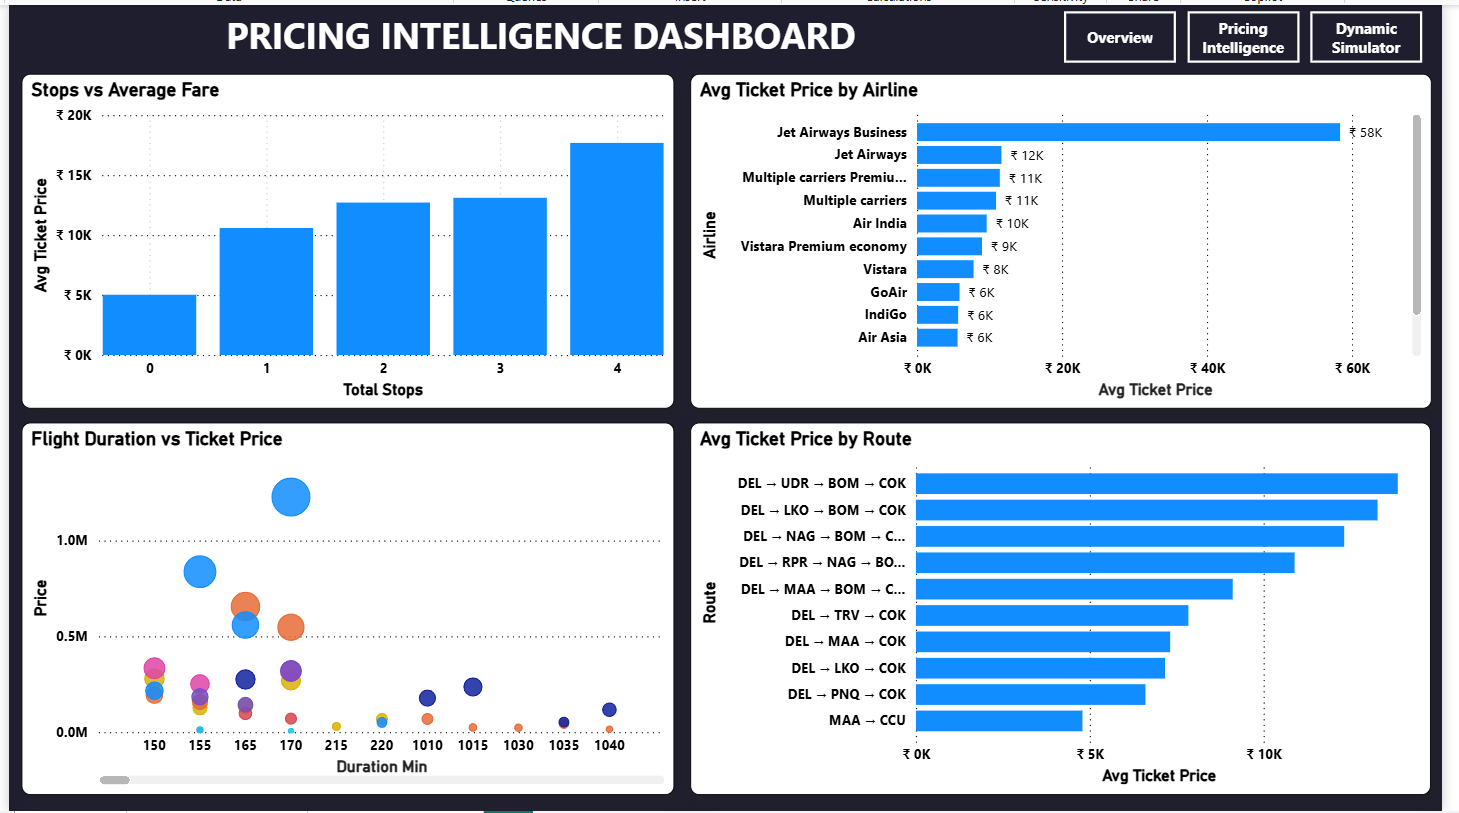

This screenshot's page, from the dashboard's own definition file:
{"tool":"powerbi","page":{"name":"Pricing Intelligence","canvas":[1280,720],"ordinal":1},"visuals":[{"type":"clusteredColumnChart","title":"Stops vs Average Fare","fields":{"Category":["Airline.Total_Stops"],"Y":["Airline.Avg Ticket Price"]},"box":[11.2,61.4,582.9,299.3],"z":0},{"type":"clusteredBarChart","fields":{"Category":["Airline.Airline"],"Y":["Airline.Avg Ticket Price"]},"box":[608.6,61.4,662.2,299.3],"z":1000},{"type":"scatterChart","title":"Flight Duration vs Ticket Price","fields":{"X":["Airline.Duration_mins"],"Y":["Sum(Airline.Price)"],"Series":["Airline.Airline"],"Size":["Sum(Airline.Price)"]},"box":[10.8,373.4,583.6,332.6],"z":2000},{"type":"barChart","fields":{"Category":["Airline.Route"],"Y":["Airline.Avg Ticket Price"]},"box":[608.8,373.4,661.6,332.6],"z":3000},{"type":"textbox","box":[11.2,0,927.9,52.5],"z":4000},{"type":"pageNavigator","box":[942.4,5.6,320.5,46.9],"z":9000}]}

Visuals, with their boxes in screenshot pixels (x1, y1, x2, y2), scaled from the page's 1280x720 canvas onto the 1459x813 screenshot:
"Stops vs Average Fare" clusteredColumnChart: 13/69/677/407
clusteredBarChart - Airline.Airline x Airline.Avg Ticket Price: 694/69/1449/407
"Flight Duration vs Ticket Price" scatterChart: 12/422/678/797
barChart - Airline.Route x Airline.Avg Ticket Price: 694/422/1448/797
textbox: 13/0/1070/59
pageNavigator: 1074/6/1440/59
